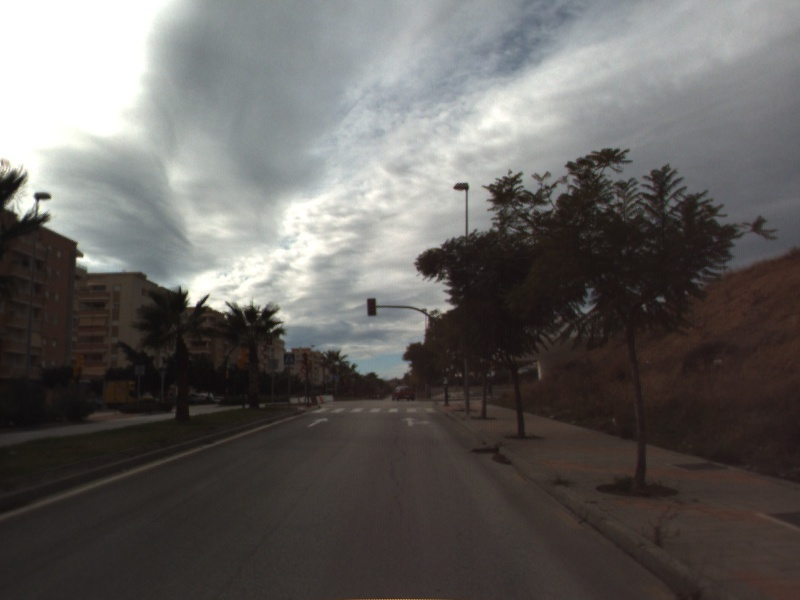STRAIGHT: (305, 415, 330, 429)
STRAIGHT_RIGHT: (400, 415, 433, 428)
